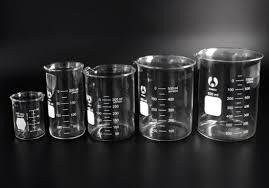Beaker: (194, 45, 262, 142), (134, 49, 193, 140), (82, 54, 134, 140), (38, 58, 86, 139), (12, 82, 43, 144)
